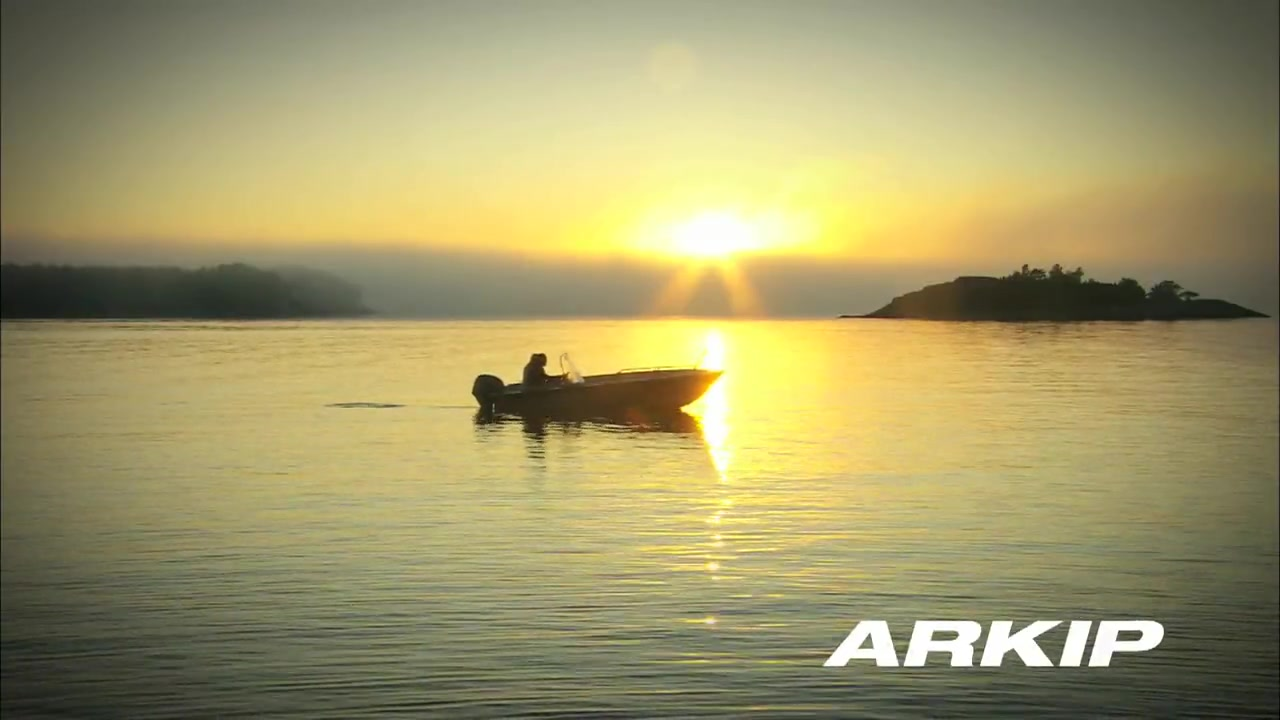boat: (470, 355, 724, 436)
